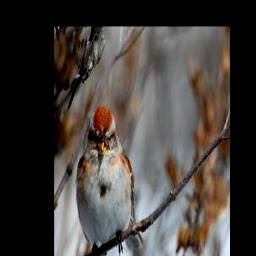Sparrow: (75, 102, 146, 256)
